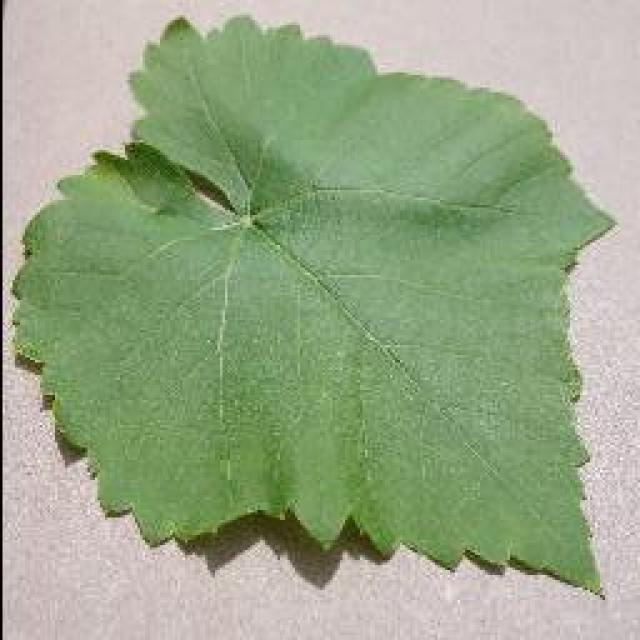Grape___healthy: (8, 8, 624, 605)
